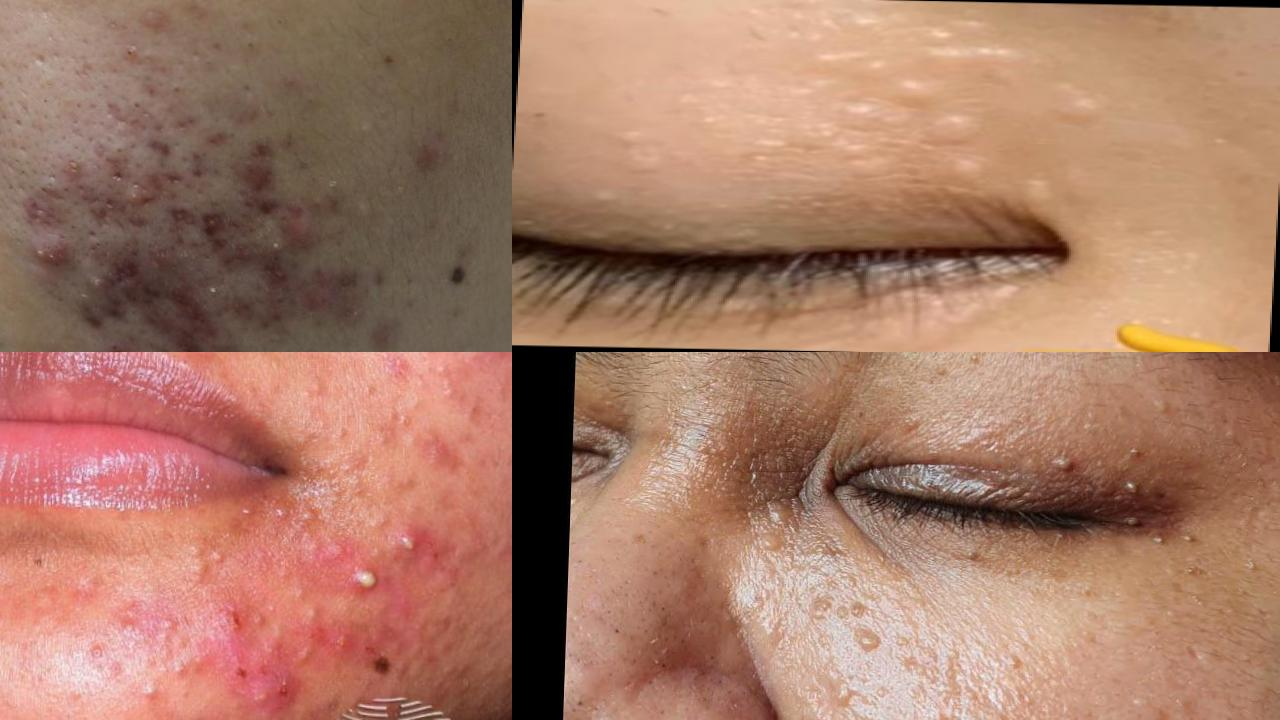blackhead: (293, 283, 336, 323), (640, 554, 673, 605), (98, 38, 145, 72), (227, 35, 260, 73), (77, 639, 112, 674), (30, 173, 65, 203), (646, 649, 677, 682), (121, 90, 149, 121), (605, 623, 632, 653), (574, 690, 598, 720), (155, 80, 193, 98)
flat_wart: (782, 587, 893, 668), (893, 640, 978, 695), (814, 675, 861, 719)
milium: (1115, 463, 1158, 505), (1236, 557, 1263, 589), (1183, 530, 1200, 557)
papular: (424, 433, 458, 474), (382, 354, 414, 387), (215, 613, 243, 641), (475, 353, 513, 373)
purulent: (346, 560, 389, 605), (386, 526, 426, 562), (245, 682, 271, 712)
sebo-crystan-conglo: (64, 222, 251, 353), (216, 209, 326, 290), (32, 226, 77, 276)
syringoma: (761, 5, 1051, 73), (738, 79, 915, 163), (742, 448, 807, 576), (1047, 77, 1115, 130), (923, 105, 994, 151), (880, 71, 960, 109)
whitehead: (428, 358, 458, 408), (346, 107, 379, 147), (129, 678, 166, 708), (350, 195, 376, 233), (205, 542, 231, 571), (290, 640, 316, 669), (297, 600, 325, 626), (297, 503, 319, 534), (268, 500, 289, 531), (236, 500, 259, 527)
